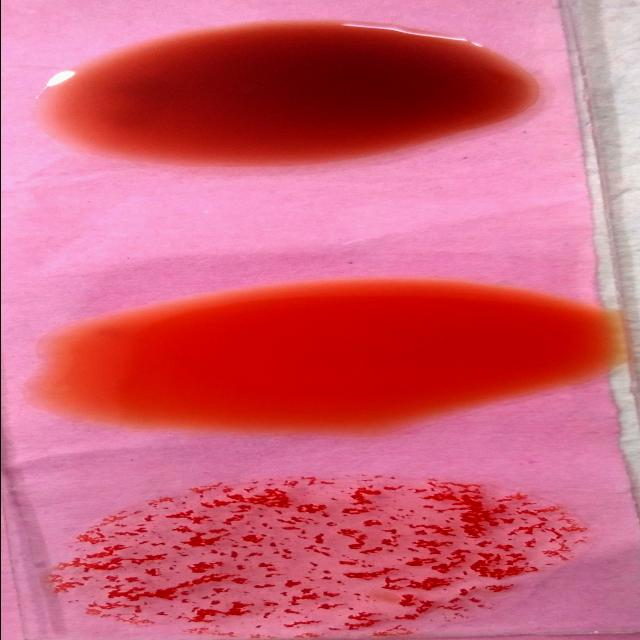D: (54, 474, 588, 638)
